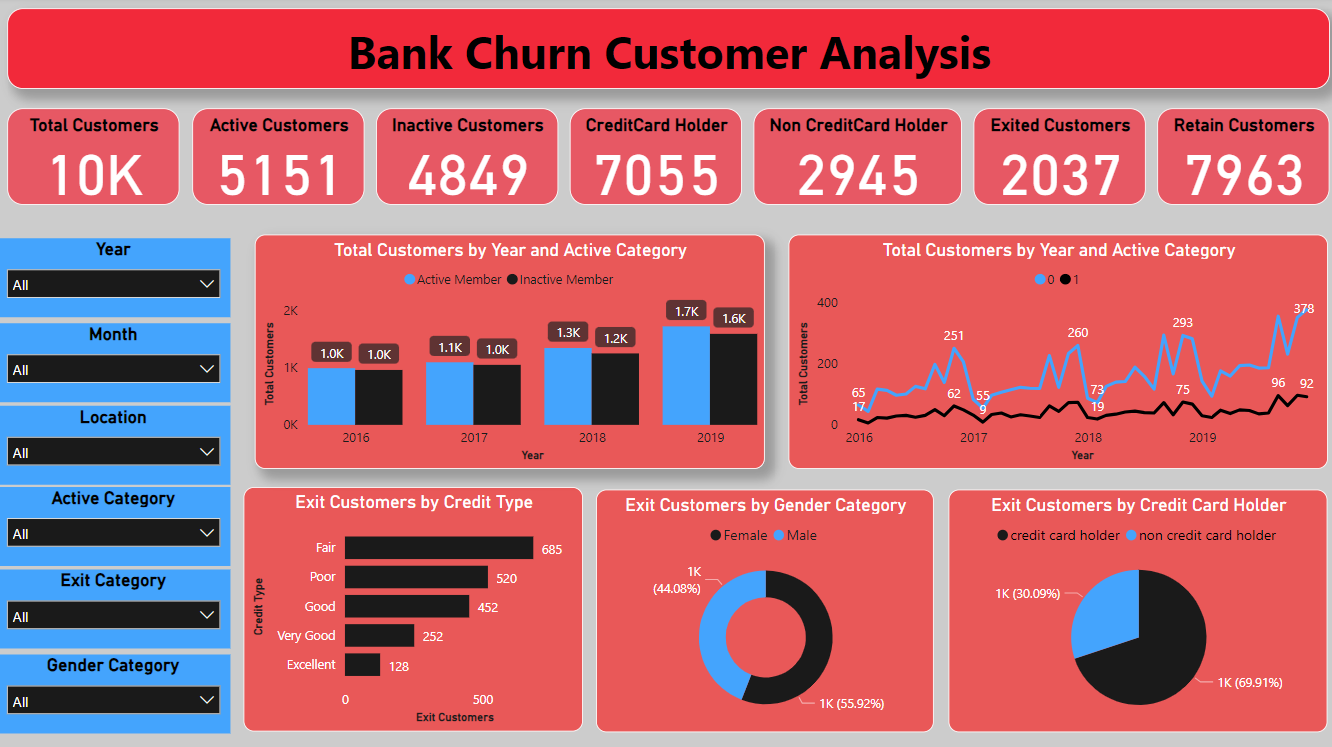

What the dashboard file says about the page in this screenshot:
{"tool":"powerbi","page":{"name":"Page 1","canvas":[1280,720],"ordinal":0},"visuals":[{"type":"textbox","box":[10.9,10.9,1258.8,76.5],"z":0},{"type":"card","title":"Total Customers","fields":{"Values":["Bank_Churn.Total Customers"]},"box":[10.9,106.2,164,92.1],"z":1000},{"type":"slicer","title":"Year","fields":{"Values":["Bank_Churn.Bank DOJ.Variation.Date Hierarchy.Year"]},"box":[0,229.6,223.3,75],"z":2000},{"type":"slicer","title":"Month","fields":{"Values":["Bank_Churn.Bank DOJ.Variation.Date Hierarchy.Month"]},"box":[0,310.8,223.3,75],"z":3000},{"type":"slicer","title":"Location","fields":{"Values":["Geography.GeographyLocation"]},"box":[0,388.9,223.3,75],"z":4000},{"type":"slicer","title":"Active Category","fields":{"Values":["ActiveCustomer.ActiveCategory"]},"box":[0,467,223.3,75],"z":5000},{"type":"slicer","title":"Exit Category","fields":{"Values":["ExitCustomer.ExitCategory"]},"box":[0,545.1,223.3,75],"z":6000},{"type":"slicer","title":"Gender Category","fields":{"Values":["Gender.GenderCategory"]},"box":[0,626.3,223.3,75],"z":7000},{"type":"lineClusteredColumnComboChart","title":"Total Customers by Year and Active Category","fields":{"Category":["Bank_Churn.Bank DOJ.Variation.Date Hierarchy.Year"],"Y":["Bank_Churn.Total Customers"],"Series":["ActiveCustomer.ActiveCategory"]},"box":[246.8,226.5,485.7,223.3],"z":8000},{"type":"barChart","title":"Exit Customers by Credit Type","fields":{"Y":["Bank_Churn.Total Exit Customers"],"Category":["Bank_Churn.Credit Type"]},"box":[235.8,467,323.3,232.7],"z":9000},{"type":"donutChart","title":"Exit Customers by Gender Category","fields":{"Category":["Gender.GenderCategory"],"Y":["Bank_Churn.Total Exit Customers"]},"box":[571.6,468.5,321.7,231.1],"z":10000},{"type":"pieChart","title":"Exit Customers by Credit Card Holder","fields":{"Category":["CreditCard.Category"],"Y":["Bank_Churn.Total Exit Customers"]},"box":[907.4,468.5,360.8,231.1],"z":11000},{"type":"lineChart","title":"Total Customers by Year and Active Category","fields":{"Y":["Bank_Churn.Total Customers"],"Category":["Bank_Churn.Bank DOJ.Variation.Date Hierarchy.Year","Bank_Churn.Bank DOJ.Variation.Date Hierarchy.Month"],"Series":["Bank_Churn.Exited"]},"box":[754.4,226.5,513.8,223.3],"z":12000},{"type":"card","title":"Active Customers","fields":{"Values":["Bank_Churn.Total Active Costumer"]},"box":[187.4,106.2,164,92.1],"z":13000},{"type":"card","title":"Inactive Customers","fields":{"Values":["Bank_Churn.Inactive Costumers"]},"box":[362.3,106.2,173.4,92.1],"z":14000},{"type":"card","title":"Exited Customers","fields":{"Values":["Bank_Churn.Exit Customers"]},"box":[930.8,106.2,164,92.1],"z":15000},{"type":"card","title":"Non CreditCard Holder","fields":{"Values":["Bank_Churn.Non CreditCard Holder"]},"box":[721.6,106.2,198.4,92.1],"z":16000},{"type":"card","title":"CreditCard Holder","fields":{"Values":["Bank_Churn.CreditCard Holder"]},"box":[546.6,106.2,164,92.1],"z":17000},{"type":"card","title":"Retain Customers","fields":{"Values":["Bank_Churn.Retain Customers"]},"box":[1105.8,106.2,164,92.1],"z":18000}]}

Visuals, with their boxes in screenshot pixels (x1, y1, x2, y2), scaled from the page's 1280x720 canvas onto the 1332x747 screenshot:
textbox: (11, 11, 1321, 91)
"Total Customers" card: (11, 110, 182, 206)
"Year" slicer: (0, 238, 232, 316)
"Month" slicer: (0, 322, 232, 400)
"Location" slicer: (0, 403, 232, 481)
"Active Category" slicer: (0, 485, 232, 562)
"Exit Category" slicer: (0, 566, 232, 643)
"Gender Category" slicer: (0, 650, 232, 728)
"Total Customers by Year and Active Category" lineClusteredColumnComboChart: (257, 235, 762, 467)
"Exit Customers by Credit Type" barChart: (245, 485, 582, 726)
"Exit Customers by Gender Category" donutChart: (595, 486, 930, 726)
"Exit Customers by Credit Card Holder" pieChart: (944, 486, 1320, 726)
"Total Customers by Year and Active Category" lineChart: (785, 235, 1320, 467)
"Active Customers" card: (195, 110, 366, 206)
"Inactive Customers" card: (377, 110, 557, 206)
"Exited Customers" card: (969, 110, 1139, 206)
"Non CreditCard Holder" card: (751, 110, 957, 206)
"CreditCard Holder" card: (569, 110, 739, 206)
"Retain Customers" card: (1151, 110, 1321, 206)
